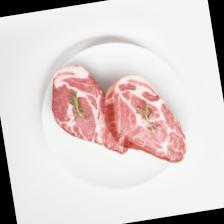meat: (96, 67, 188, 173), (44, 57, 128, 164)
